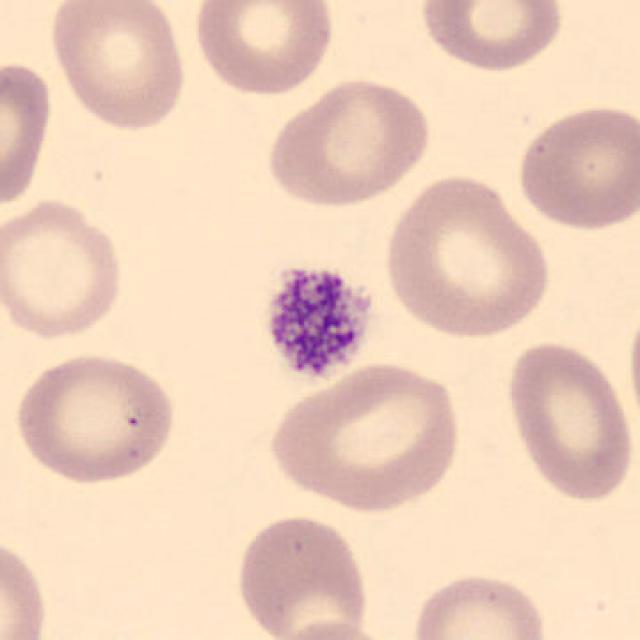Platelets: (256, 256, 377, 388)
RBC: (262, 358, 468, 515), (378, 169, 556, 342), (9, 347, 181, 487), (262, 72, 436, 210), (499, 337, 636, 506), (0, 194, 130, 344), (44, 0, 190, 132), (231, 510, 373, 638), (512, 100, 638, 232), (188, 0, 339, 99), (416, 0, 569, 74), (407, 567, 553, 640), (0, 56, 55, 214), (0, 532, 52, 638), (265, 615, 403, 640), (624, 291, 640, 451)
